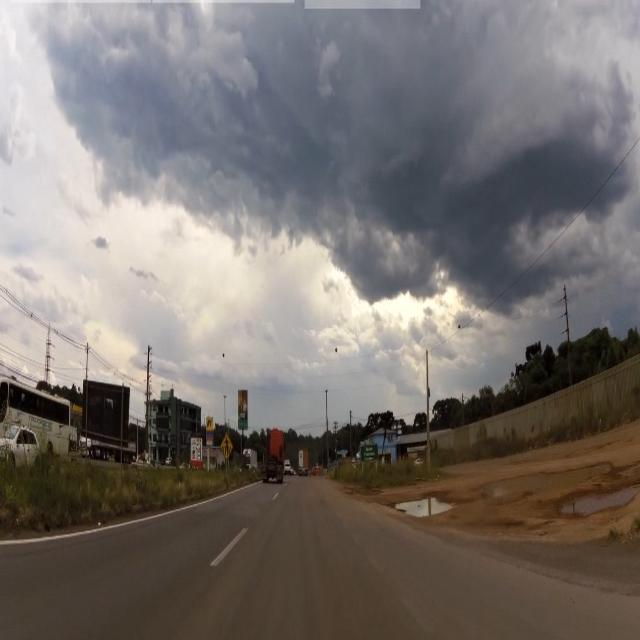A-32b: (221, 433, 233, 461)
